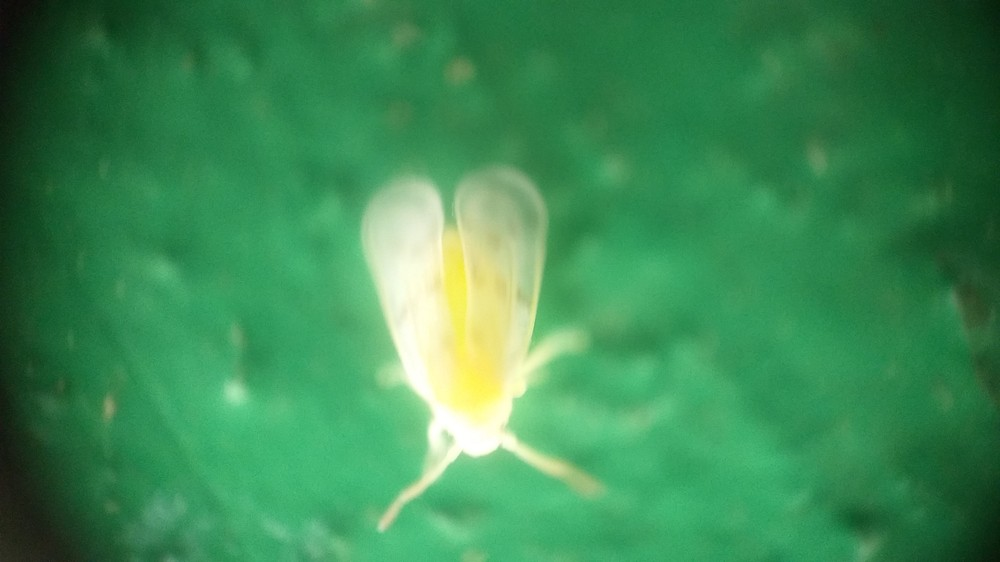Mosca Blanca: (310, 158, 659, 553)
